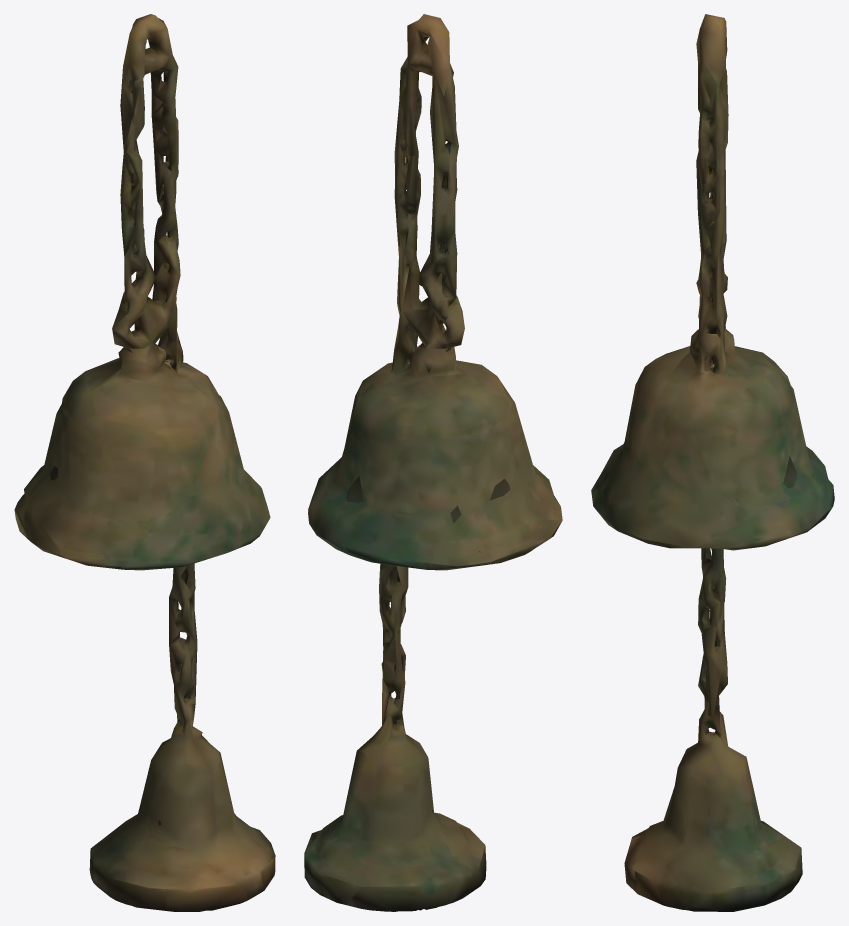
File: plain-bronze-bell-v001.glb
The picture shows the model from 3 angles, left to right: view 1: azimuth 30°, elevation 25°; view 2: azimuth 150°, elevation 25°; view 3: azimuth 270°, elevation 25°; orthographic projection. The views are drawn at different scales.
Parts seen in each view (by area): view 1: plain-bronze-bell; view 2: plain-bronze-bell; view 3: plain-bronze-bell.
Boxes of the visible parts, left/top/right/bottom form: plain-bronze-bell: left=14, top=14, right=275, bottom=911; plain-bronze-bell: left=304, top=14, right=562, bottom=911; plain-bronze-bell: left=591, top=14, right=834, bottom=911.
Bounding box in the file's own units: 0.39 × 1.39 × 0.3632.
Materials: 1 (1 with a texture image).
